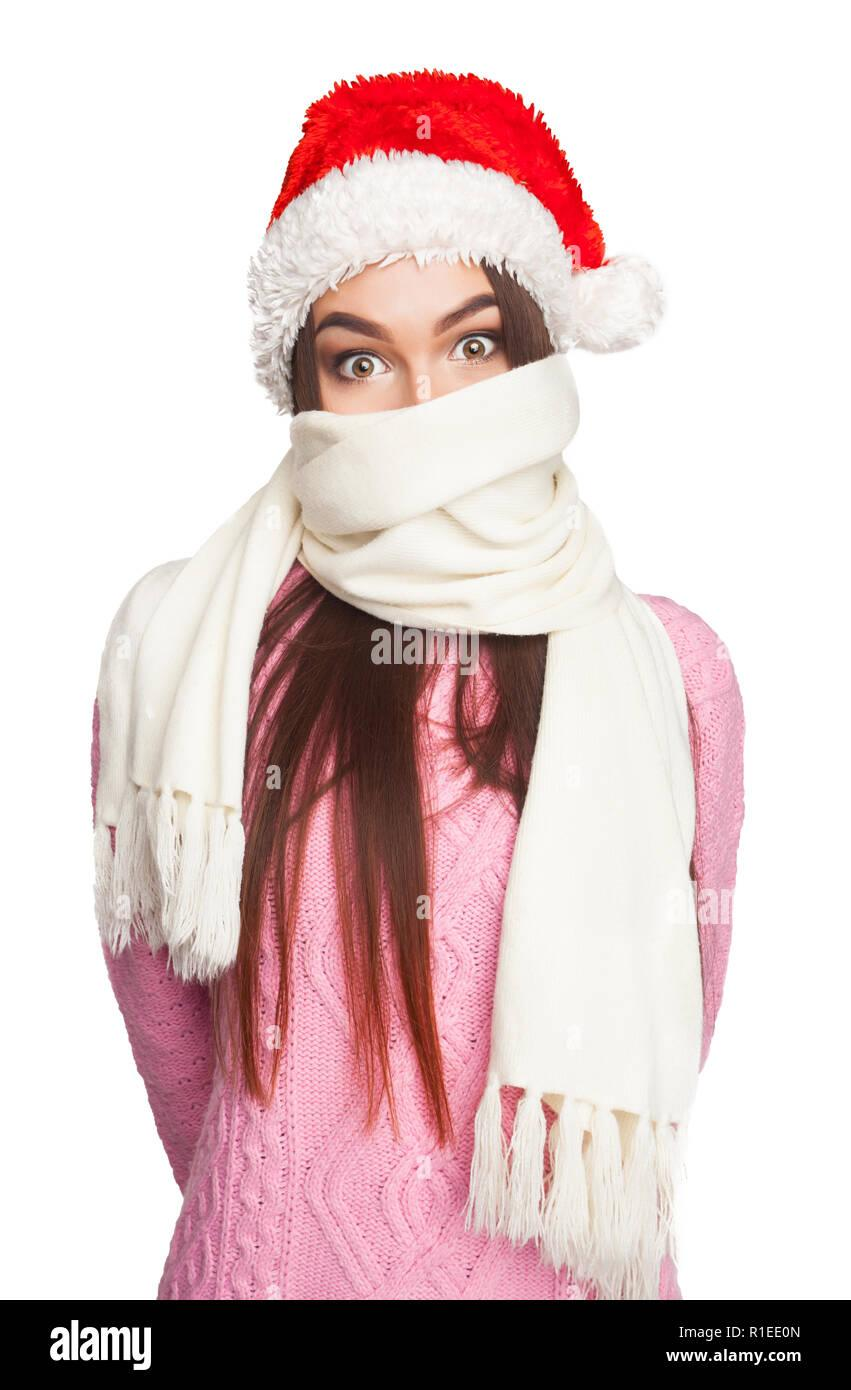cap: (197, 57, 700, 367)
scarf-kerchief: (253, 333, 657, 643)
